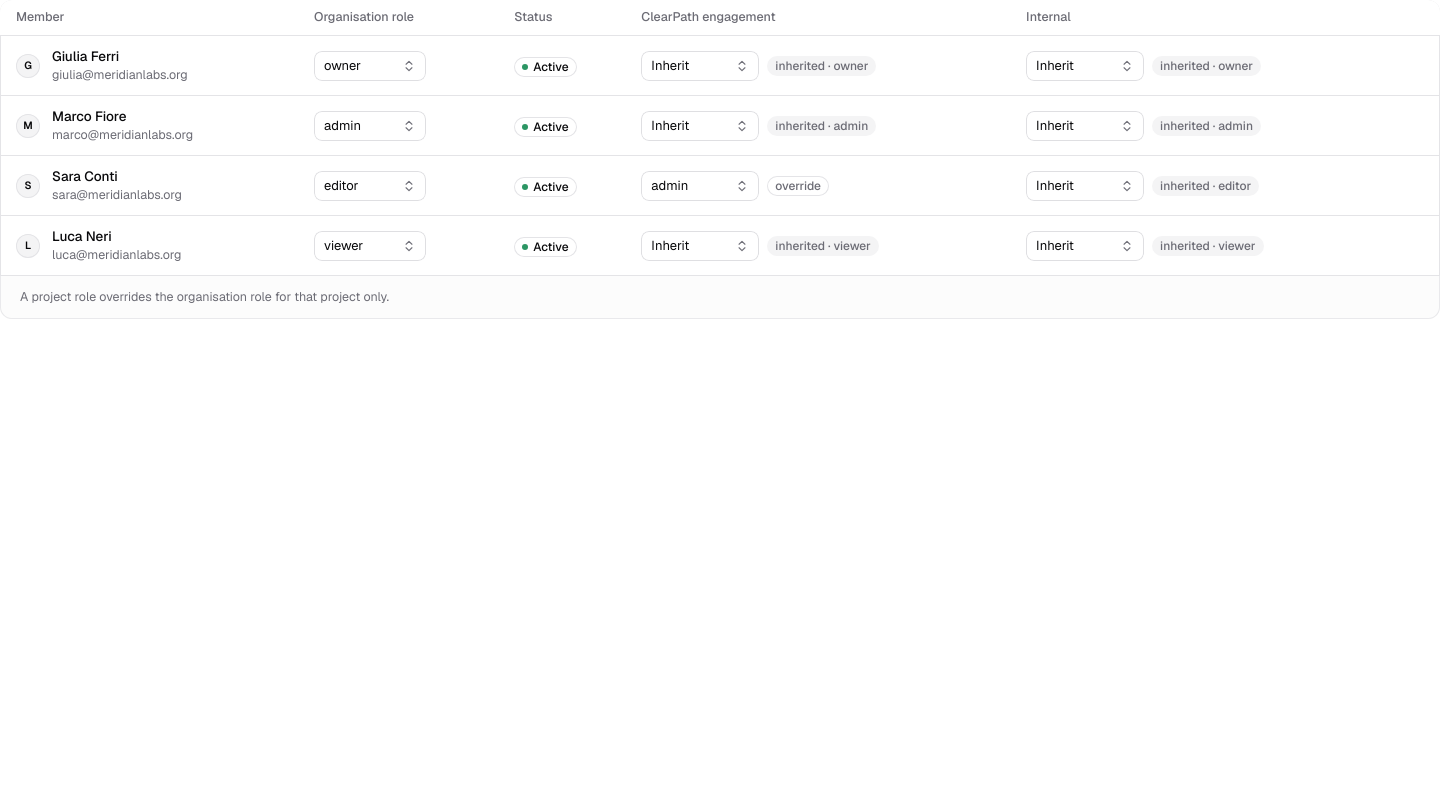
Scenario: MembersTab › changing a project role › choosing Inherit removes the override, says so and refreshes
expect the text "Sara Conti" is shown: met, box [52,167,118,185]
Select "Inherit" in the dropdown named "ClearPath engagement" in the row of "Sara Conti": (700, 186) [641,170,759,200]
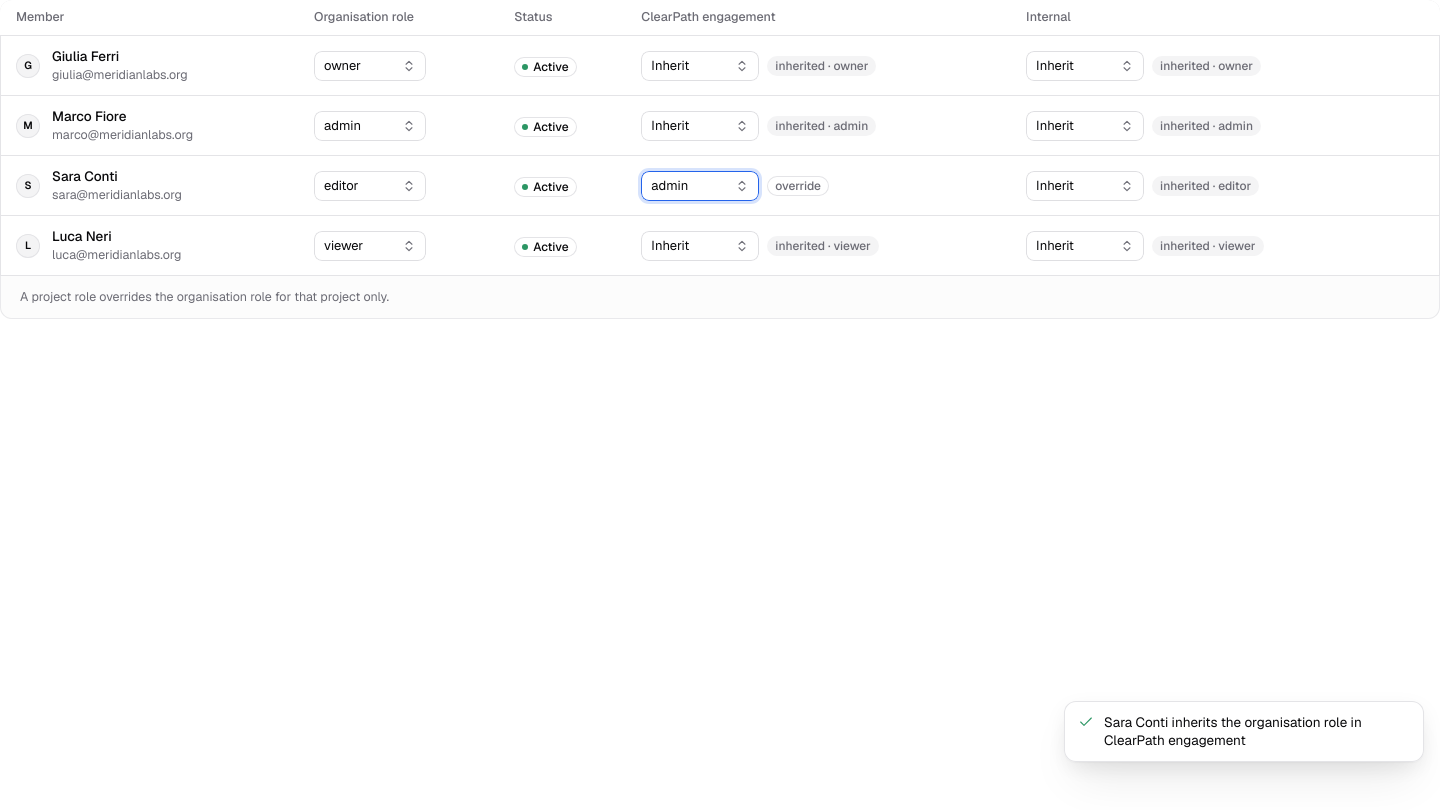
expect the text "Sara Conti inherits the organisation role in ClearPath engagement" is shown: met, box [1104,713,1362,750]
